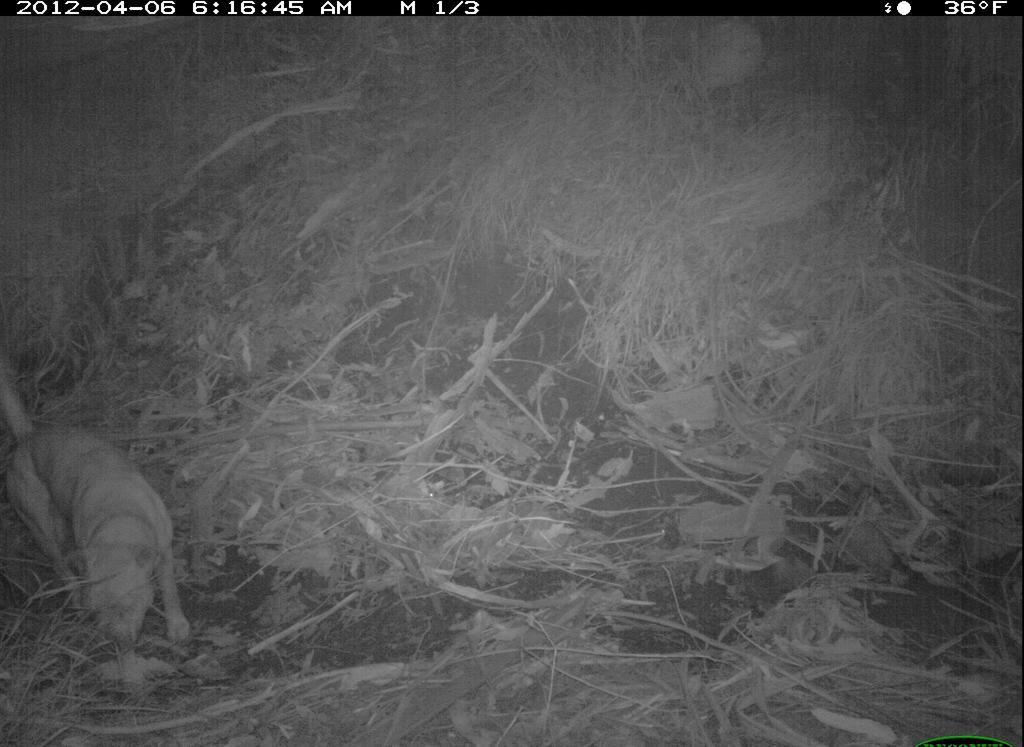dog: (7, 376, 222, 667)
